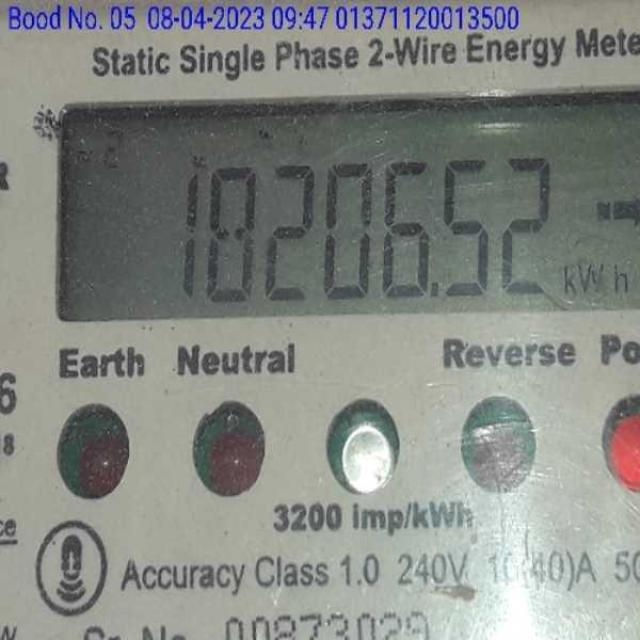0: (325, 164, 374, 302)
1: (181, 166, 203, 300)
2: (264, 164, 322, 304), (505, 150, 554, 302)
5: (444, 154, 497, 303)
6: (381, 165, 431, 299)
8: (207, 165, 260, 303)
Digital meter: (57, 108, 640, 318)
point: (422, 278, 452, 308)
